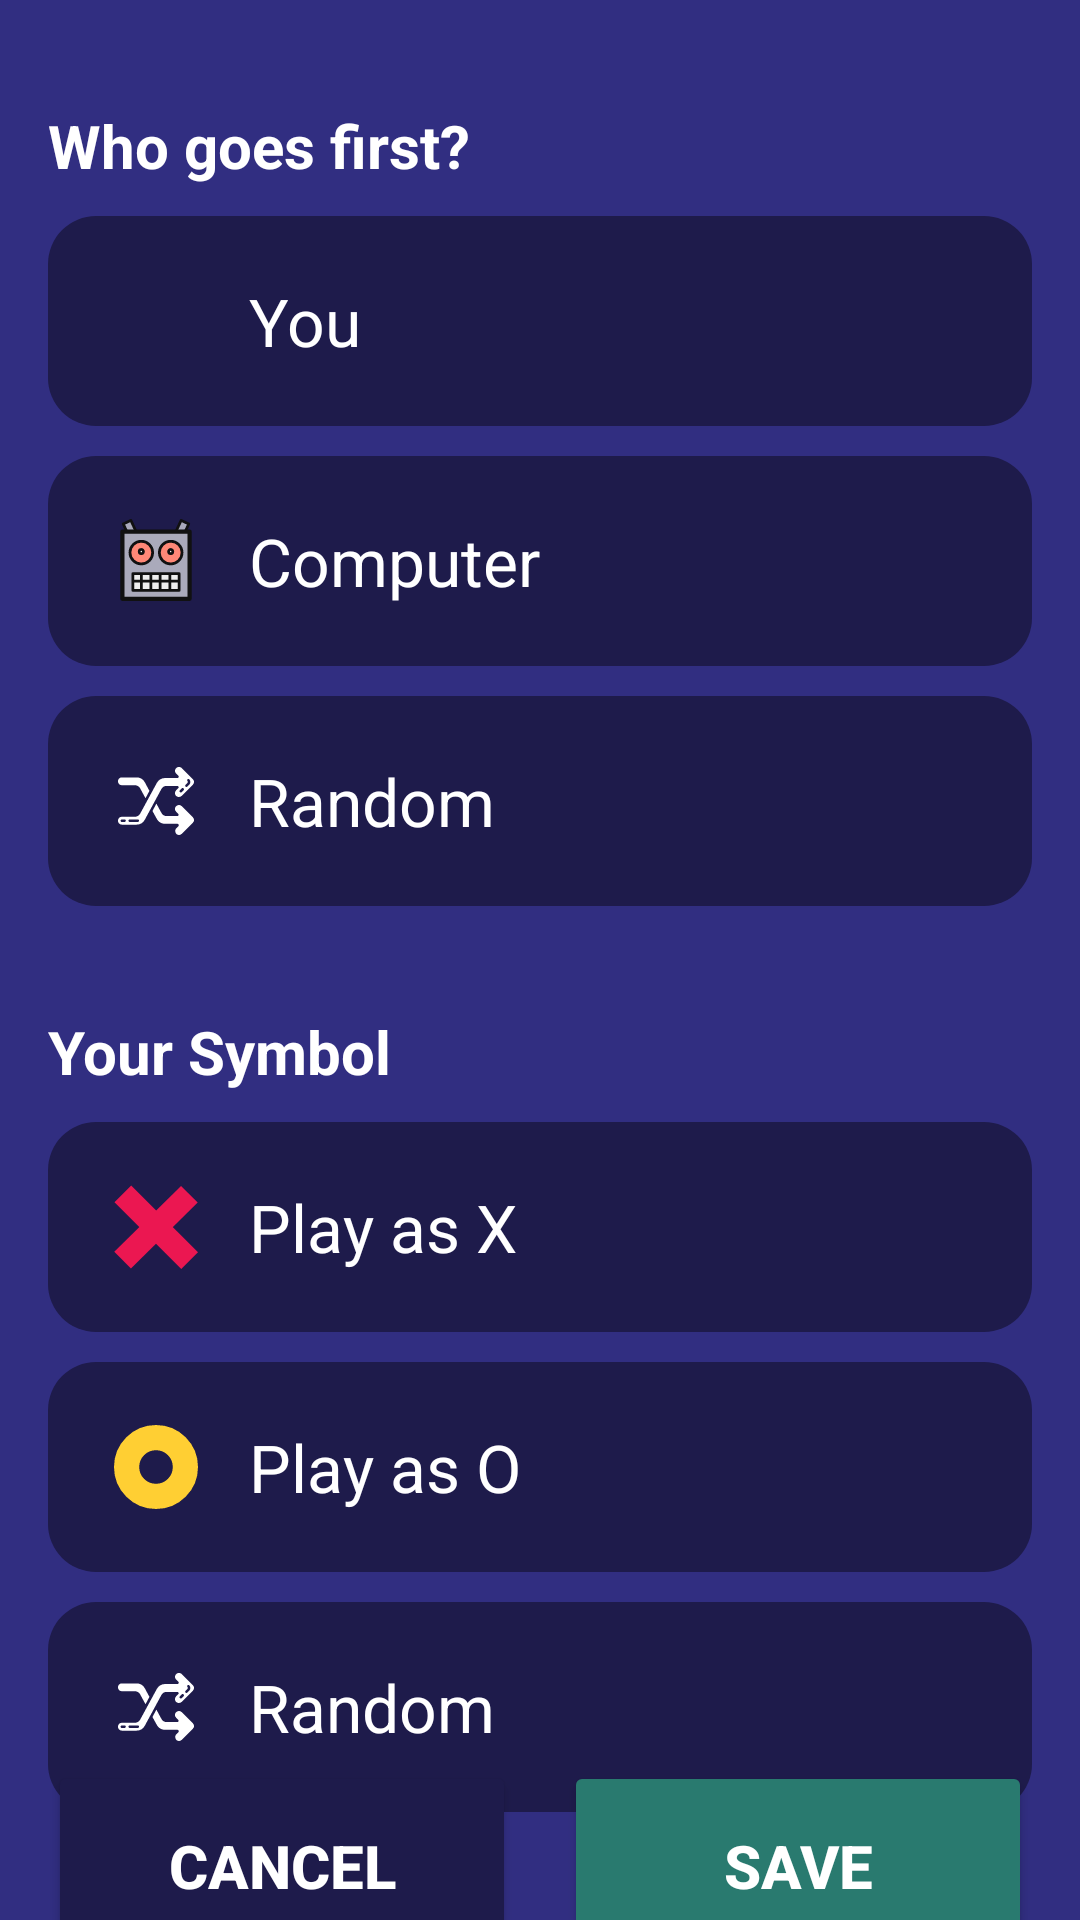

Icon bounding boxes for this 1080px×1920px phone screenshot, format (x1, y1, x2, y2):
robot: (120, 519, 192, 601)
